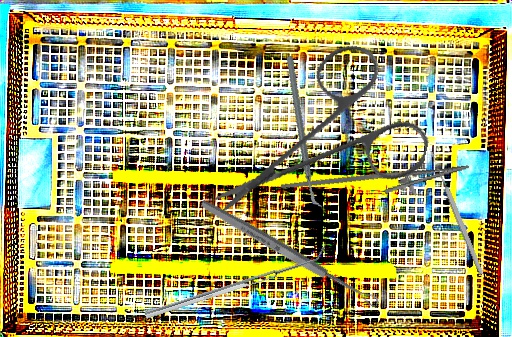Chopper: (252, 55, 357, 210)
Iris Scissors: (212, 21, 447, 257)
Needle Holder: (280, 142, 473, 225)
Spatula Surgical: (142, 246, 330, 319)
Surgical Spoon: (198, 197, 381, 310), (428, 149, 485, 276)
